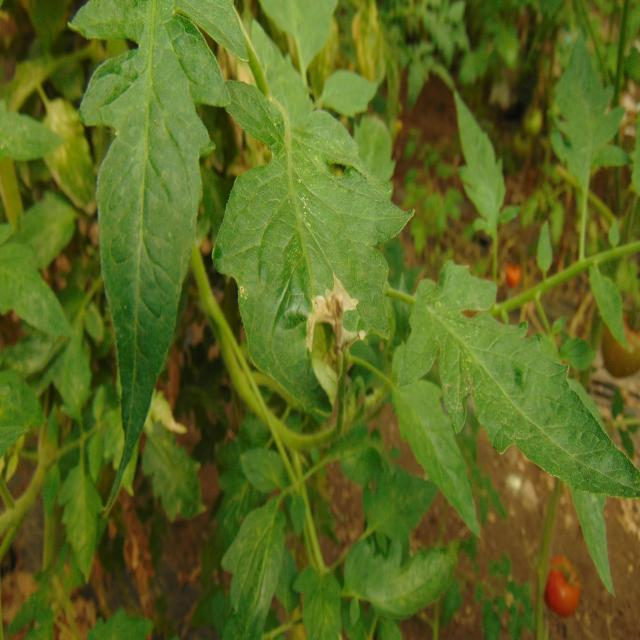Tuta absoluta: (305, 270, 364, 352)
